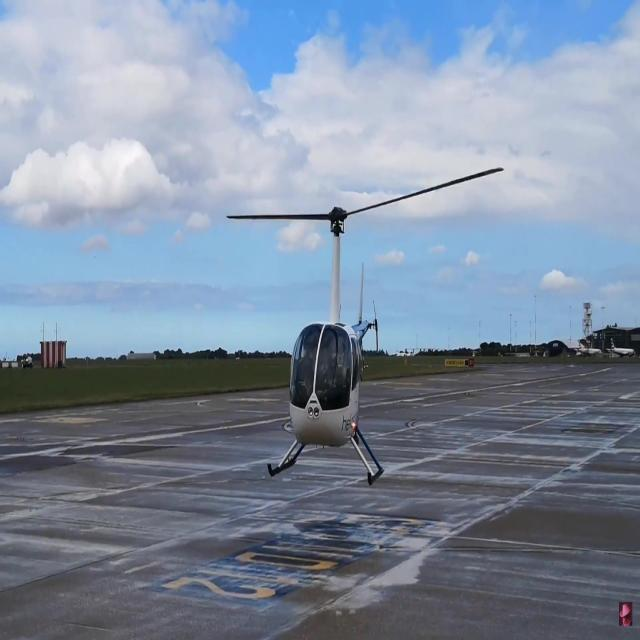CIV_HELO: (266, 204, 388, 486)
